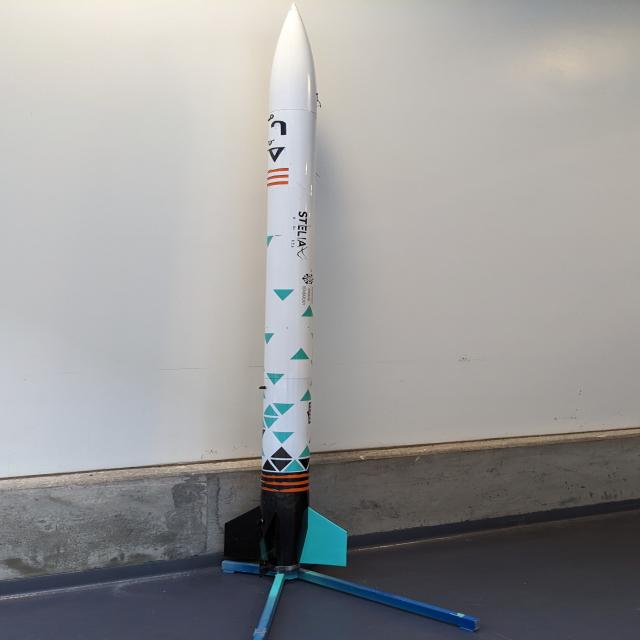Rocket: (224, 2, 347, 579)
